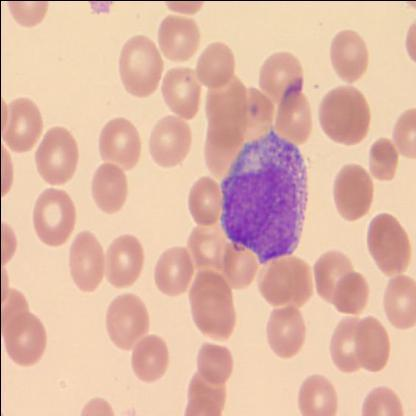Promyelocyte: (219, 126, 309, 264)
